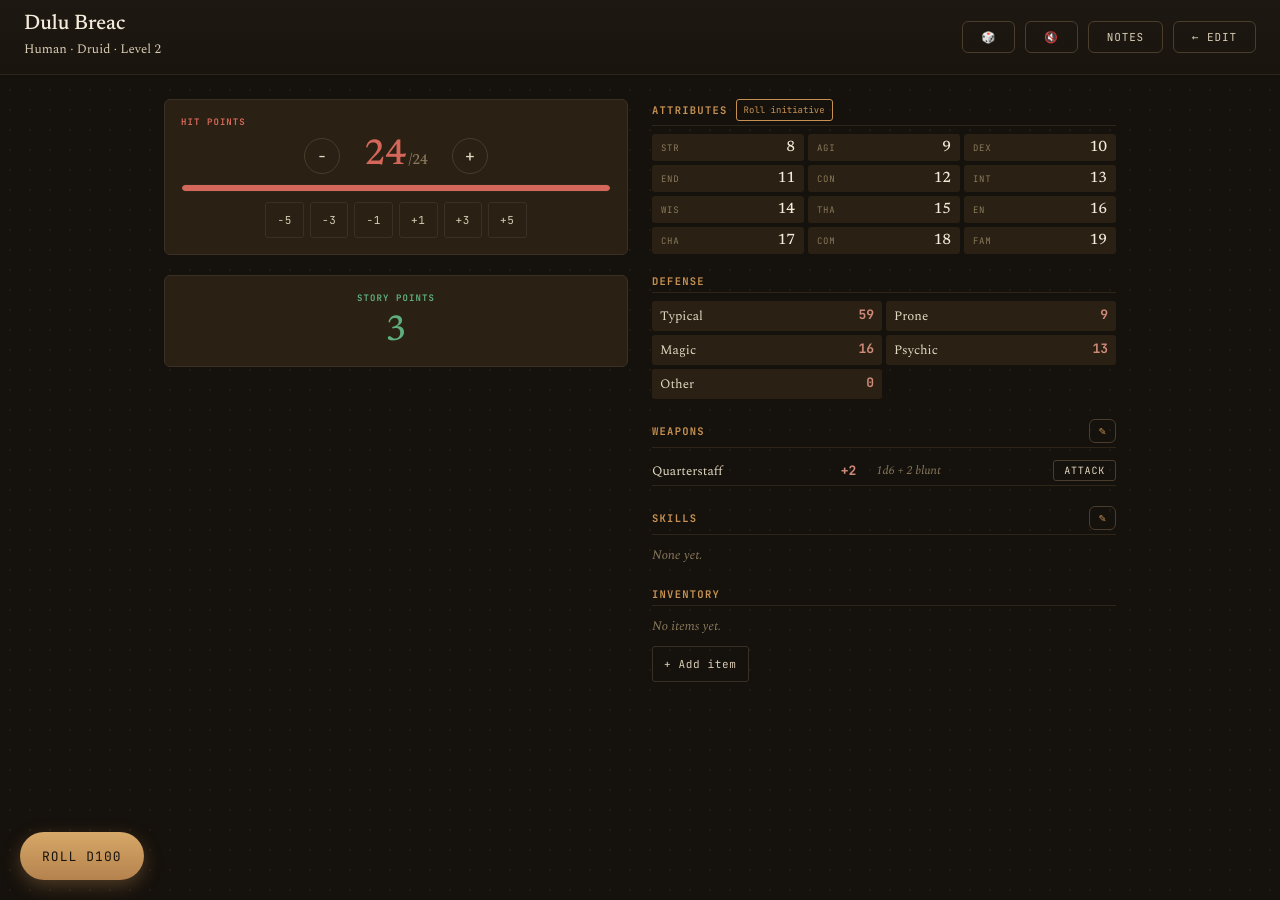
Scenario: Roll banner explains its numbers (#372) › names the attack value used and the one that does not stack
What coordinates should you click on to do the following:
click the button "Attack"
I would click on:
 (1085, 470)
Its box is x1=1053 y1=460 x2=1116 y2=481.
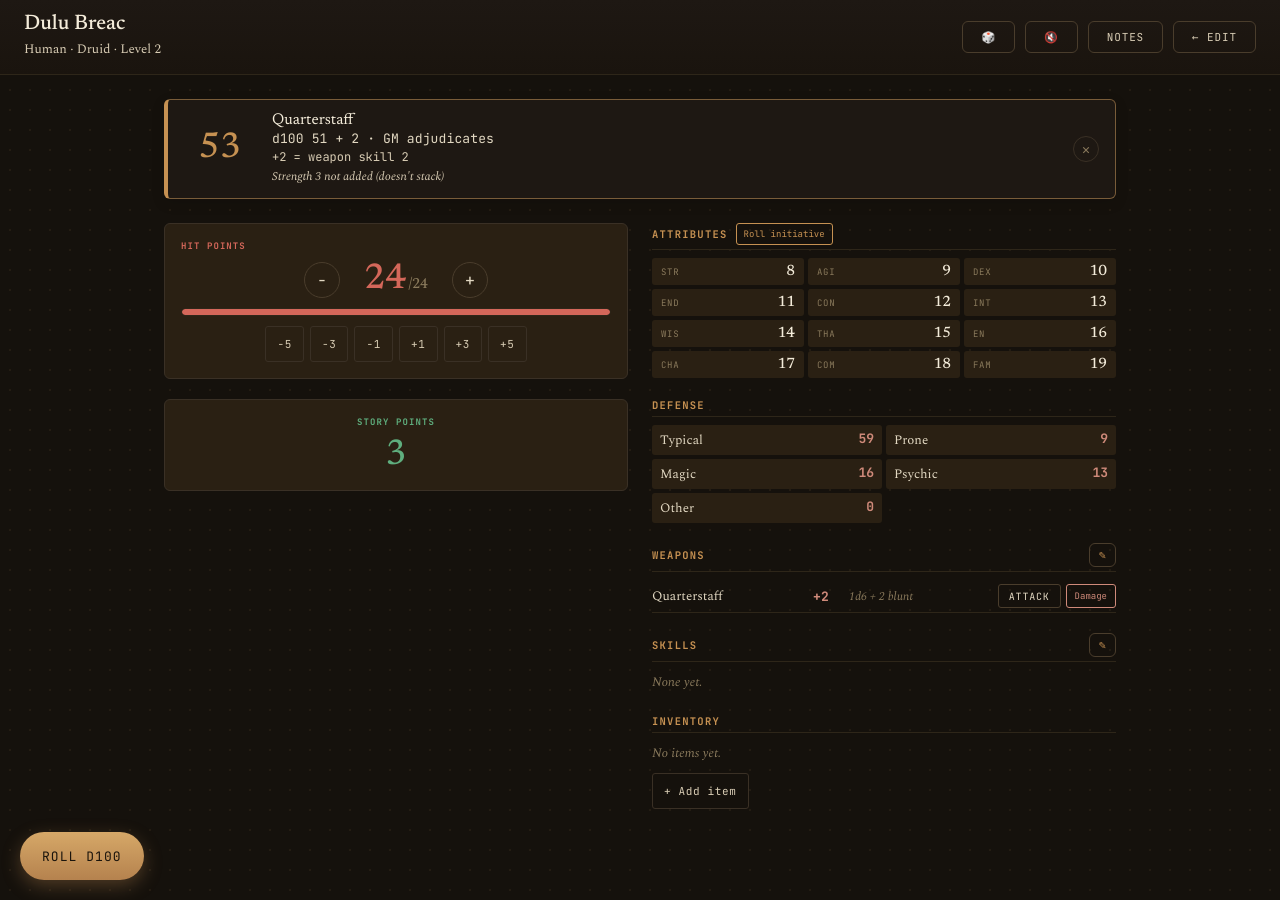
Now the message shows "+2 = weapon skill 2", box x1=272 y1=149 x2=409 y2=165
Now the message shows "Strength 3 not added (doesn't stack)", box x1=272 y1=167 x2=444 y2=186
